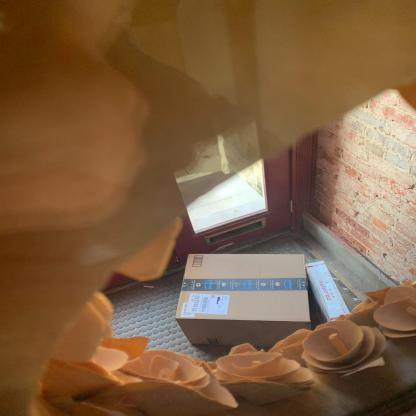package: (175, 253, 310, 347), (306, 260, 352, 321)
